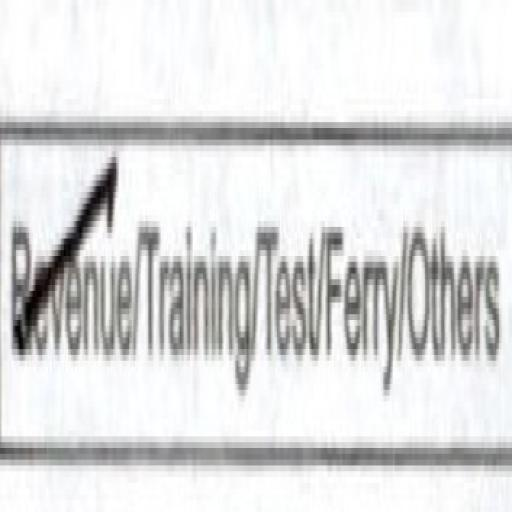check: (0, 64, 133, 463)
